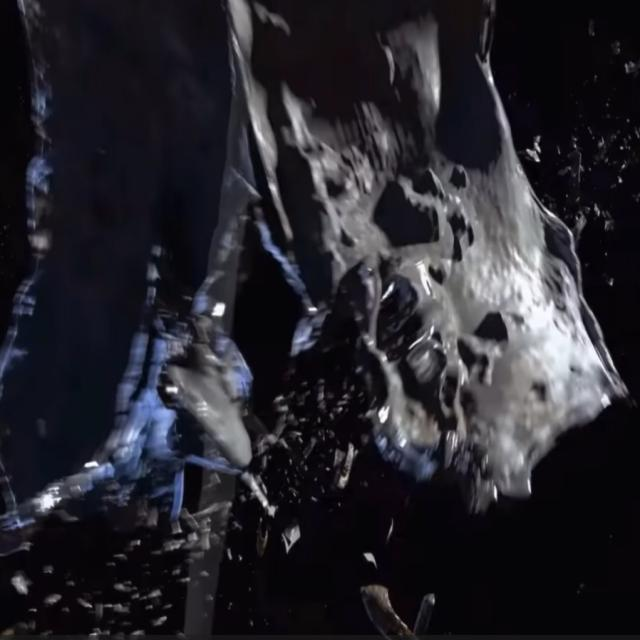large_debris: (221, 0, 634, 511), (133, 271, 303, 540), (355, 563, 441, 639)
